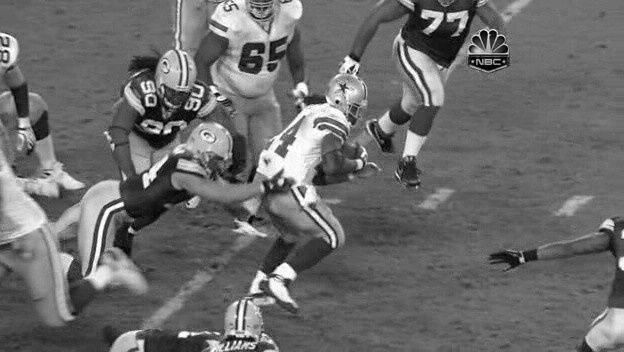person: (332, 78, 368, 124), (331, 78, 367, 124), (333, 78, 369, 124), (332, 77, 368, 123), (332, 79, 368, 125)
target_negative: (236, 109, 504, 204), (397, 213, 614, 297), (481, 145, 532, 209), (13, 284, 62, 332), (256, 332, 316, 339), (78, 315, 178, 316)
